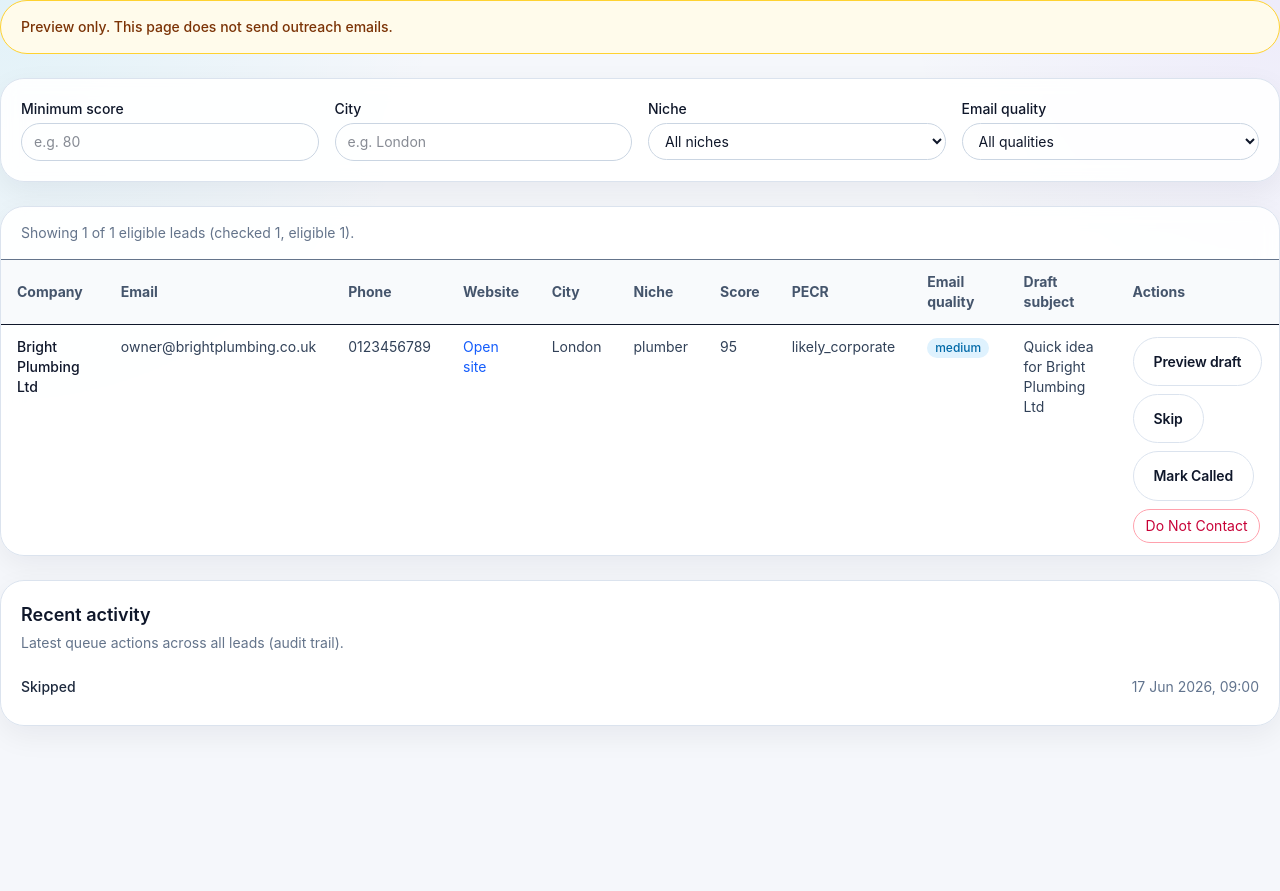
Test: QueueClient activity display › loads per-lead activity when the draft panel is expanded
Expected: the text "Bright Plumbing Ltd" is shown, [1, 324, 105, 555]
Click the button "Preview draft" at coordinates (1198, 362), box [1133, 337, 1262, 386]
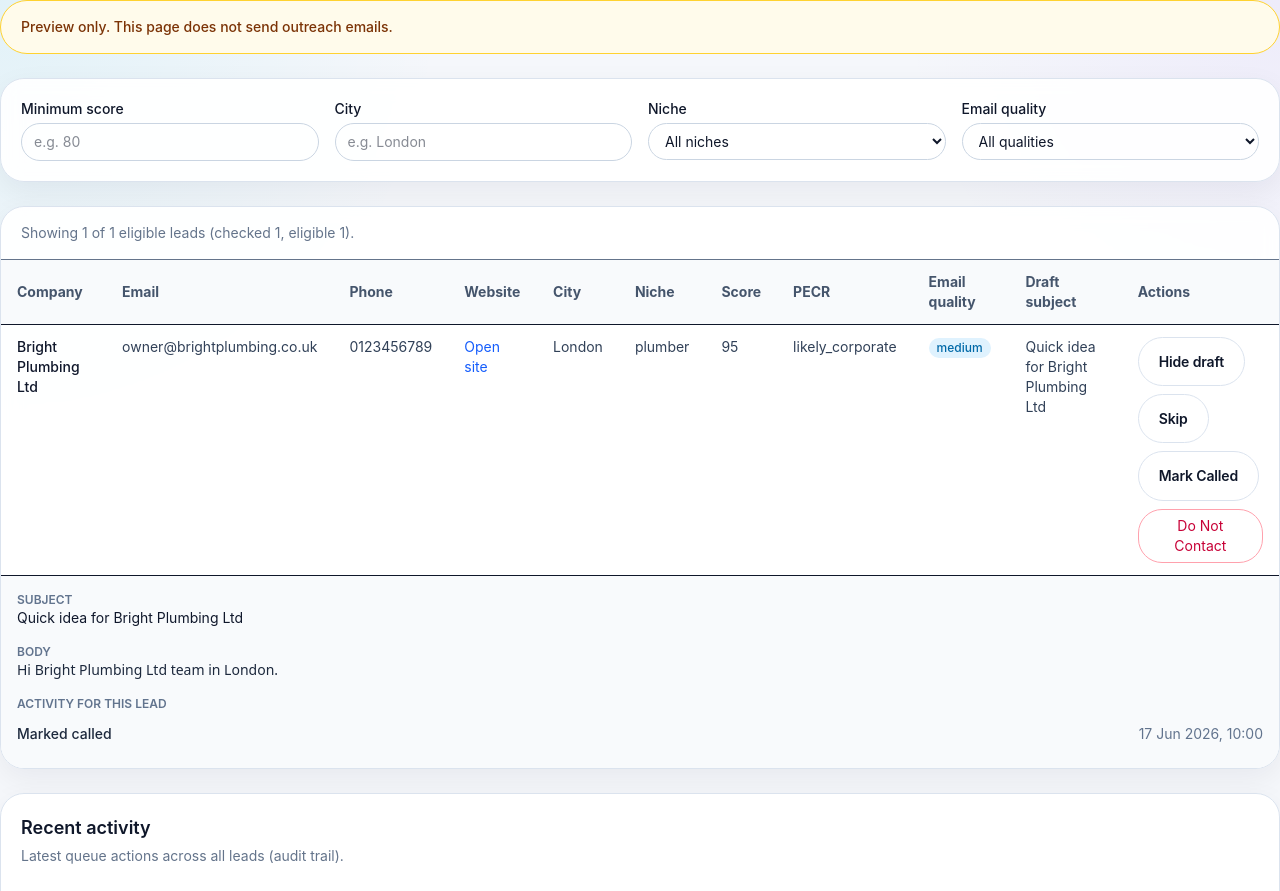
Result: the text "Activity for this lead" is shown at [17, 696, 167, 711]
Result: the text "Marked called" is shown at [17, 724, 112, 744]
